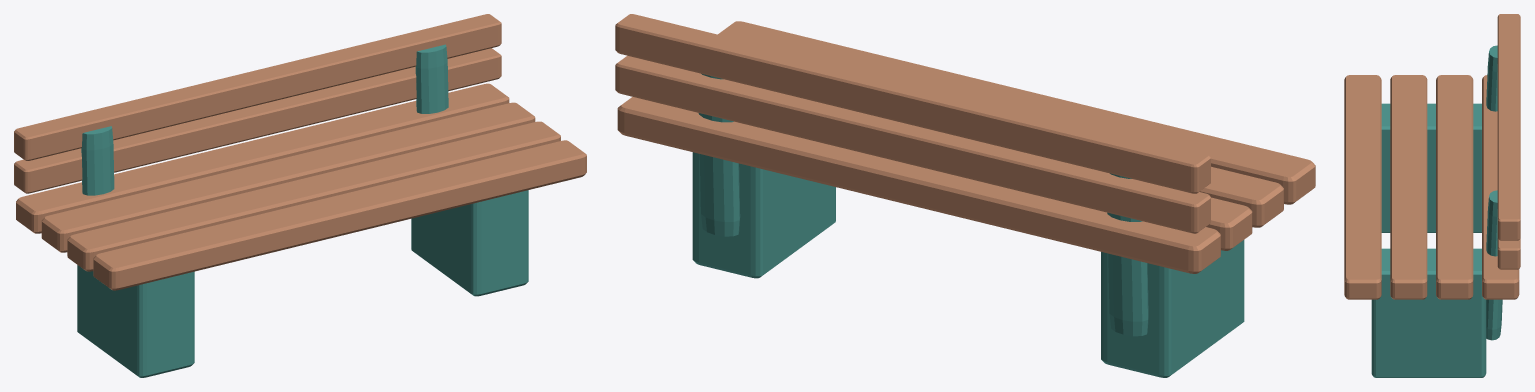
File: bench.glb
3 renders of one model, left to right at view 1: azimuth 30°, elevation 25°; view 2: azimuth 150°, elevation 25°; view 3: azimuth 270°, elevation 25°, orthographic. The views are drawn at different scales.
Parts seen in each view (by area): view 1: model; view 2: model; view 3: model.
Boxes of the visible parts, bbox=[...] form: model: bbox=[14, 14, 586, 377]; model: bbox=[615, 14, 1315, 377]; model: bbox=[1344, 14, 1520, 377].
Size of the model in its own units: 1.25 by 0.5 by 0.45.
